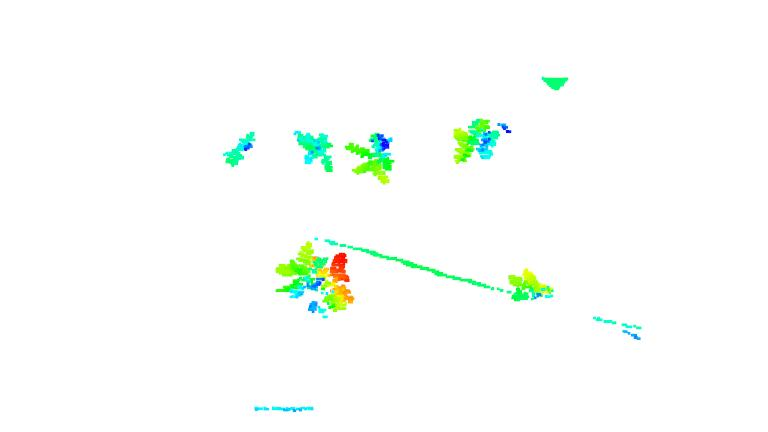chickpea: (273, 244, 357, 316), (452, 119, 514, 166), (345, 132, 395, 185), (291, 127, 336, 172), (507, 267, 556, 304), (219, 129, 257, 168)
